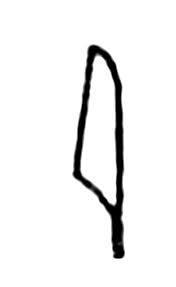Reed: (70, 38, 136, 262)
